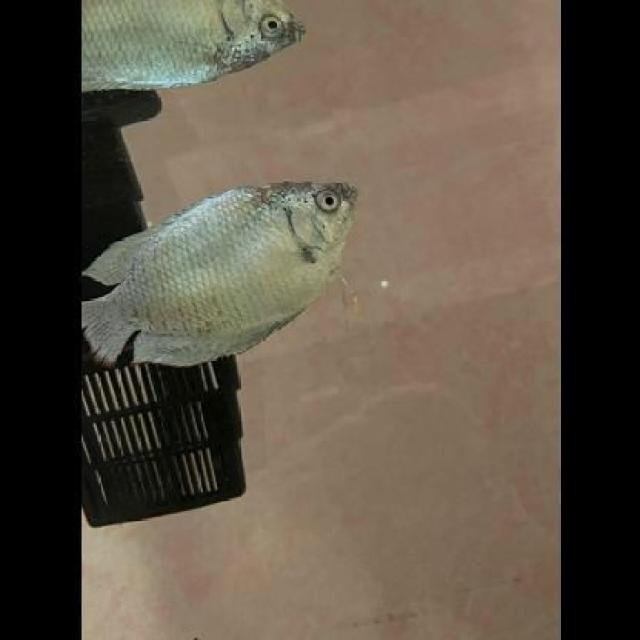Gourami: (80, 168, 366, 370)
